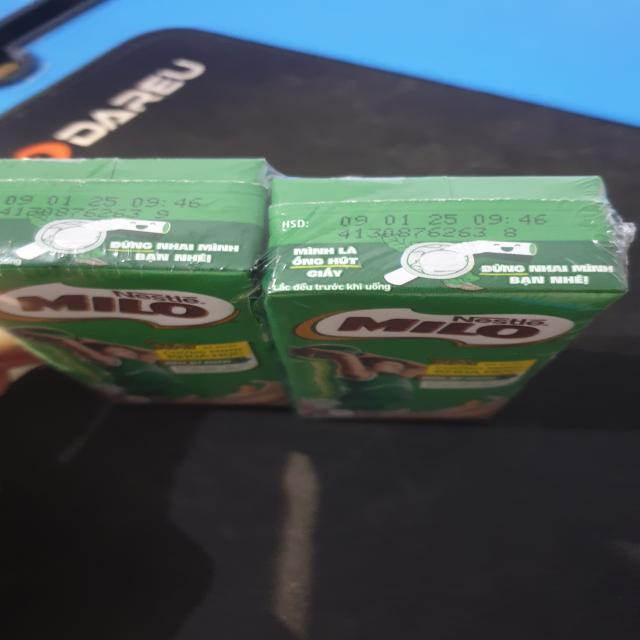Milo: (270, 176, 622, 421), (1, 158, 296, 412)
